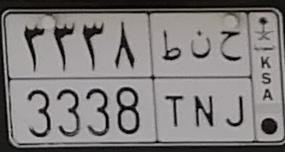3: (53, 22, 82, 138), (82, 21, 110, 137), (24, 24, 52, 138)
8: (112, 20, 141, 135)
J: (220, 29, 244, 128)
N: (190, 29, 216, 128)
T: (161, 29, 184, 128)
